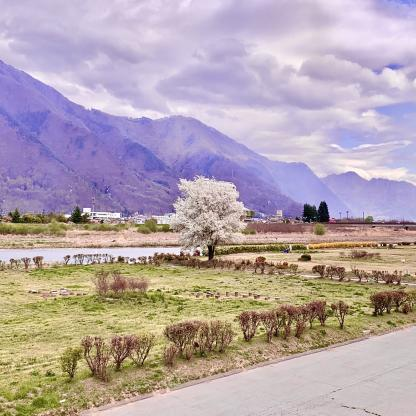OshimaSakura: (170, 177, 247, 256)
